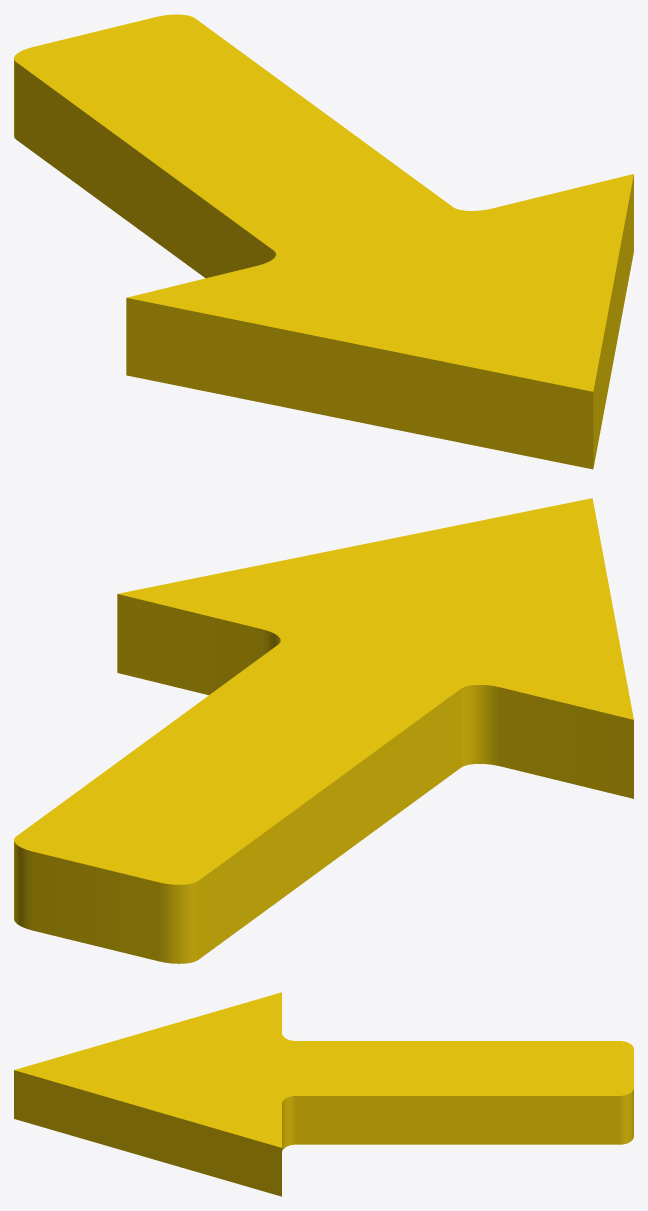
The model's file is jiantou.FBX.
The picture shows the model from 3 angles, top to bottom: view 1: azimuth 30°, elevation 25°; view 2: azimuth 150°, elevation 25°; view 3: azimuth 270°, elevation 25°; orthographic projection. The views are drawn at different scales.
Visible parts, largest first — view 1: Box003; view 2: Box003; view 3: Box003.
Part boxes in pixels (<box>): Box003: <box>14,14,633,469</box>; Box003: <box>14,498,633,963</box>; Box003: <box>14,992,633,1196</box>.
Bounding box in the file's own units: 188 × 27.5 × 317.
Materials: 1 (1 with a texture image).
